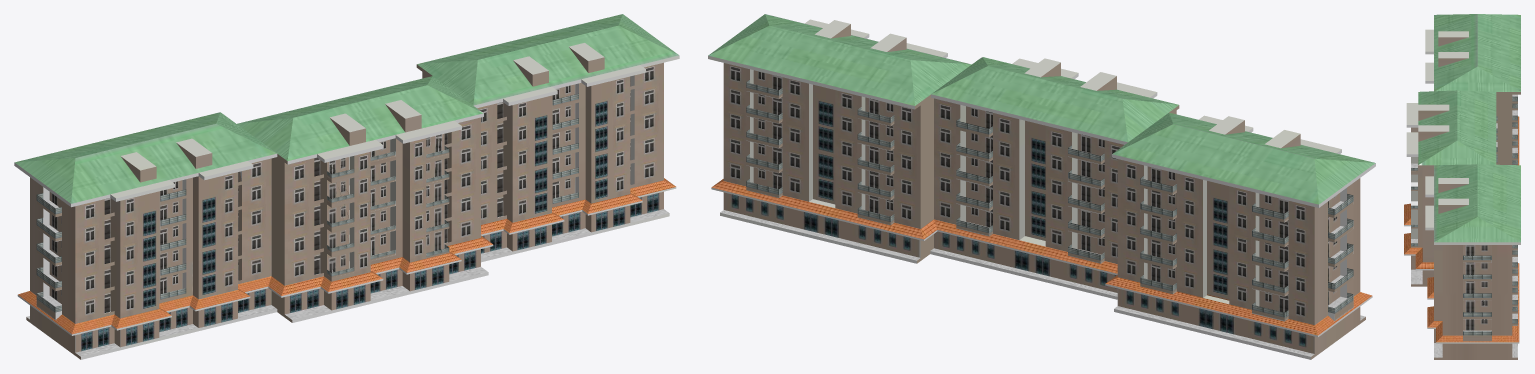
3 views of the same model, side by side, from view 1: azimuth 30°, elevation 25°; view 2: azimuth 150°, elevation 25°; view 3: azimuth 270°, elevation 25° (orthographic). The views are drawn at different scales.
Parts seen in each view (by area): view 1: HN472___N6A; view 2: HN472___N6A; view 3: HN472___N6A.
Boxes of the visible parts, left/top/right/bottom form: HN472___N6A: left=14, top=14, right=679, bottom=359; HN472___N6A: left=708, top=14, right=1375, bottom=359; HN472___N6A: left=1404, top=14, right=1520, bottom=359.
Size of the model in its own units: 93 by 25.65 by 20.2.
1 material, 1 textured.
